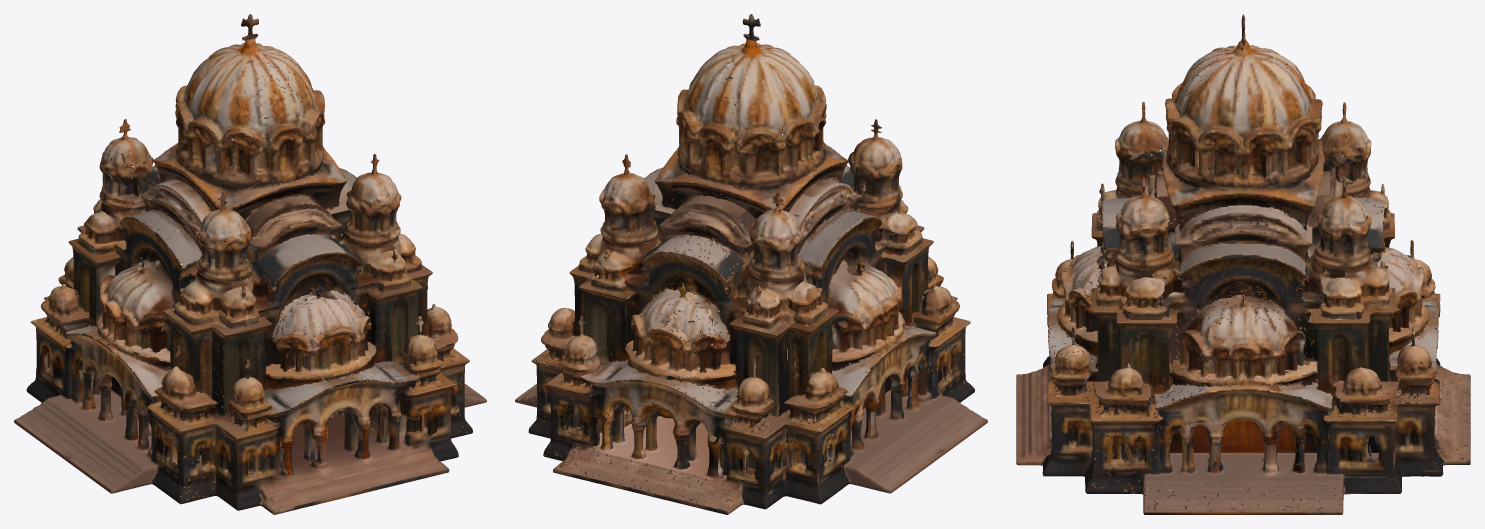
File: basilica_texturizada.glb
3 views of the same model, side by side, from view 1: azimuth 30°, elevation 25°; view 2: azimuth 150°, elevation 25°; view 3: azimuth 270°, elevation 25° (orthographic). The views are drawn at different scales.
Visible parts, largest first — view 1: observatorioTec_Texturizado.obj; view 2: observatorioTec_Texturizado.obj; view 3: observatorioTec_Texturizado.obj.
Part boxes in pixels (x1,y1,x2,y2): observatorioTec_Texturizado.obj: [14, 14, 486, 514]; observatorioTec_Texturizado.obj: [515, 14, 987, 514]; observatorioTec_Texturizado.obj: [1016, 14, 1470, 514].
Size of the model in its own units: 1.92 by 1.94 by 1.97.
1 material, 1 textured.
